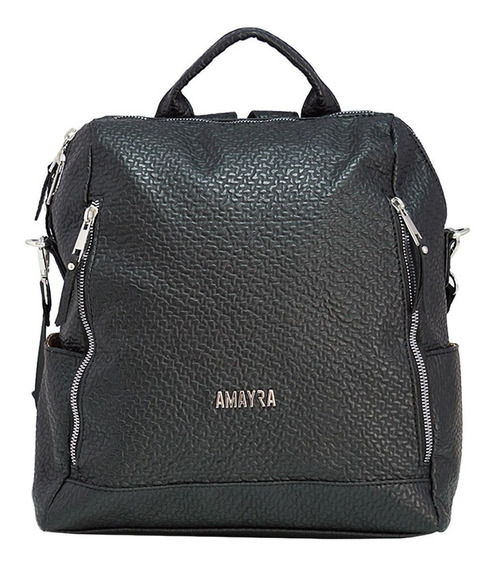cartera: (29, 26, 466, 538)
